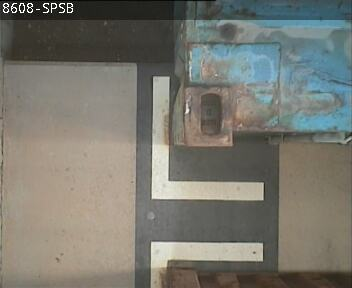groundmarker_1: (149, 75, 263, 288)
